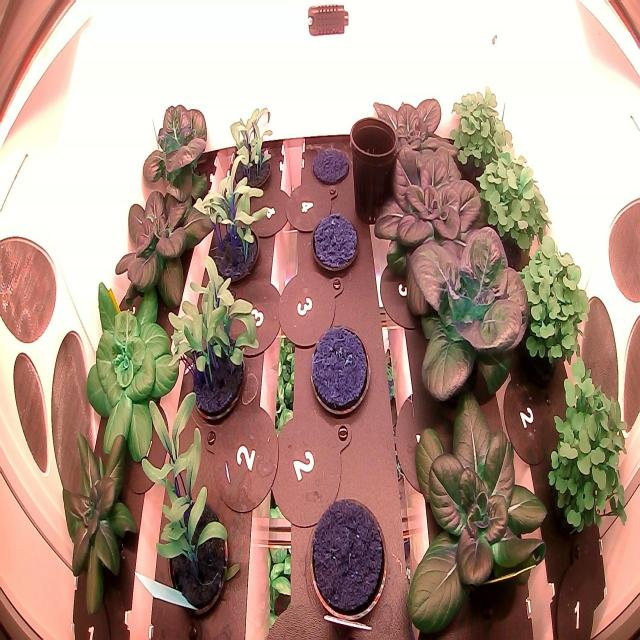pod: (303, 493, 392, 628), (306, 319, 374, 429), (307, 207, 363, 280), (309, 140, 355, 190)
young: (386, 355, 561, 640), (388, 212, 538, 414), (368, 130, 507, 284), (82, 272, 184, 468), (55, 413, 140, 624), (102, 173, 218, 315), (359, 80, 470, 194), (136, 86, 215, 220)
